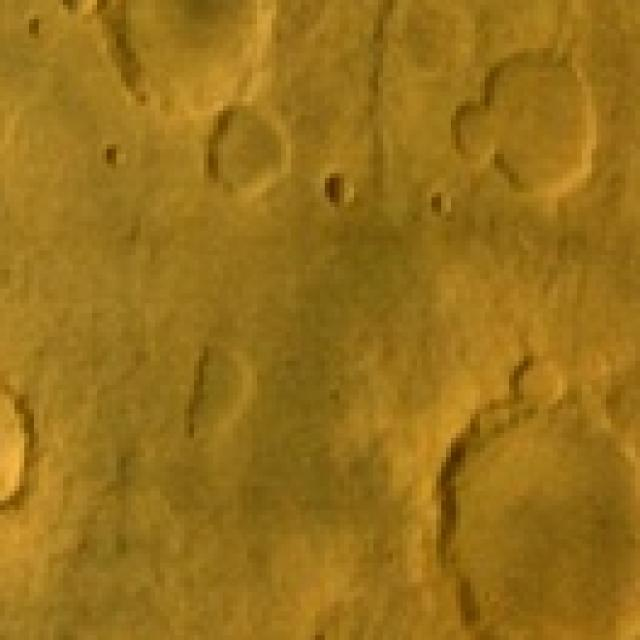Crater: (436, 399, 640, 640), (92, 0, 272, 111), (485, 48, 601, 207), (0, 366, 34, 529)
